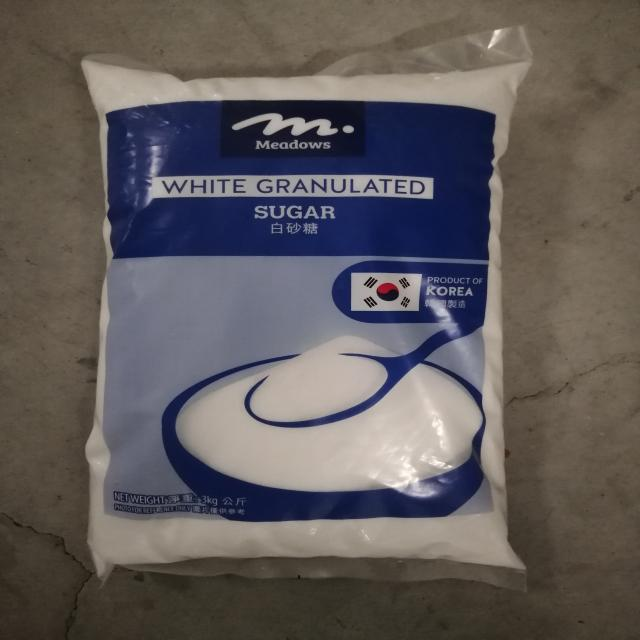object_name: (96, 62, 499, 575)
